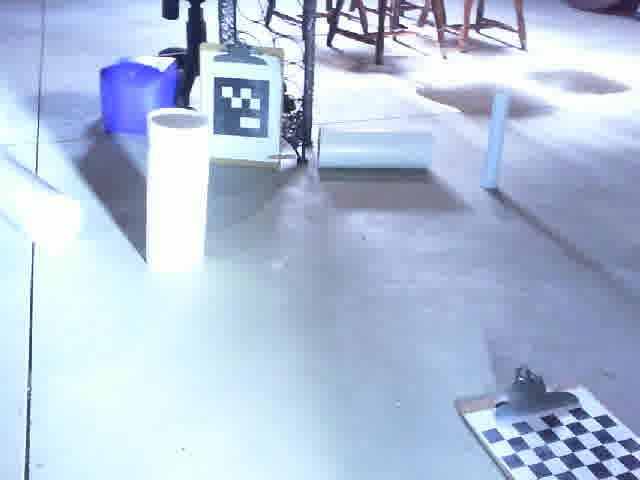coral: (140, 105, 212, 279), (0, 151, 93, 251), (314, 127, 441, 172)
